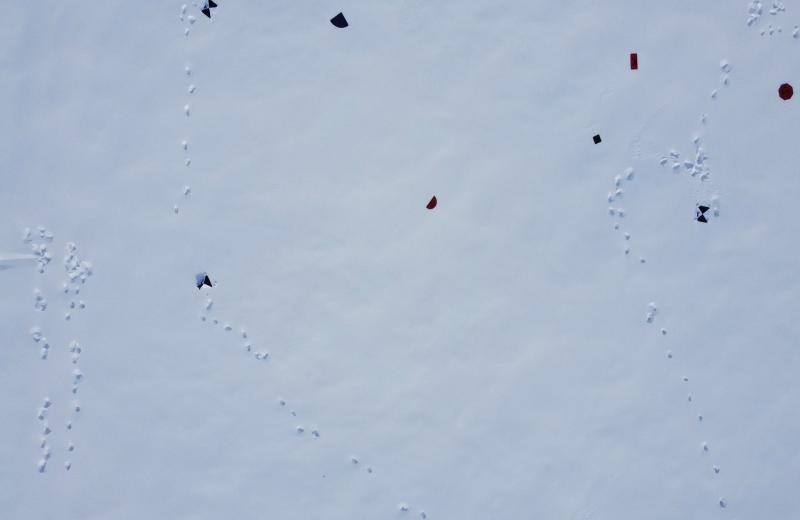Octagon: (778, 82, 794, 101)
Quarter Circle: (329, 11, 350, 30)
Rectangle: (629, 52, 639, 71)
Semi Circle: (426, 196, 437, 210)
Square: (591, 133, 602, 146)
